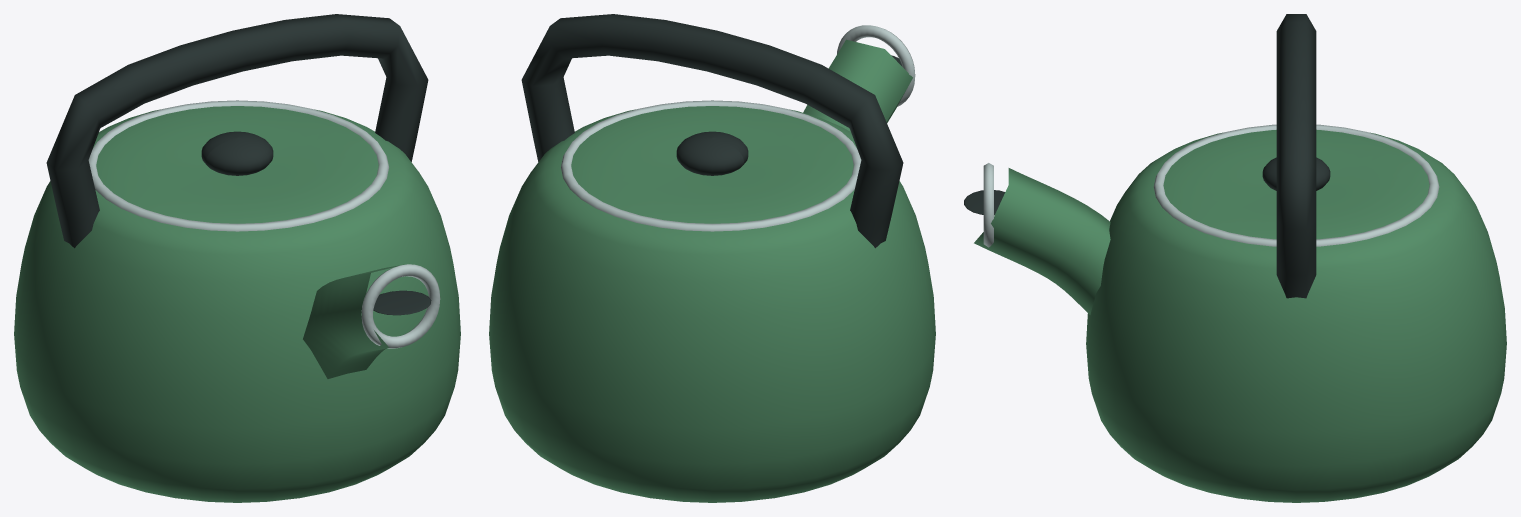
Rendered from kettle-light.glb.
3 views of the same model, side by side, from view 1: azimuth 30°, elevation 25°; view 2: azimuth 150°, elevation 25°; view 3: azimuth 270°, elevation 25° (orthographic). The views are drawn at different scales.
Parts seen in each view (by area): view 1: green, dark, steel; view 2: green, dark, steel; view 3: green, dark, steel.
Boxes of the visible parts, box(x1,y1,x2,y2) form: green: box(14, 106, 460, 502); dark: box(46, 14, 431, 315); steel: box(88, 100, 440, 348); green: box(489, 39, 935, 502); dark: box(521, 14, 903, 248); steel: box(561, 25, 915, 231); green: box(974, 129, 1506, 502); dark: box(964, 14, 1330, 298); steel: box(983, 124, 1439, 247).
Bounding box in the file's own units: 0.5512 × 0.5536 × 0.7111.
